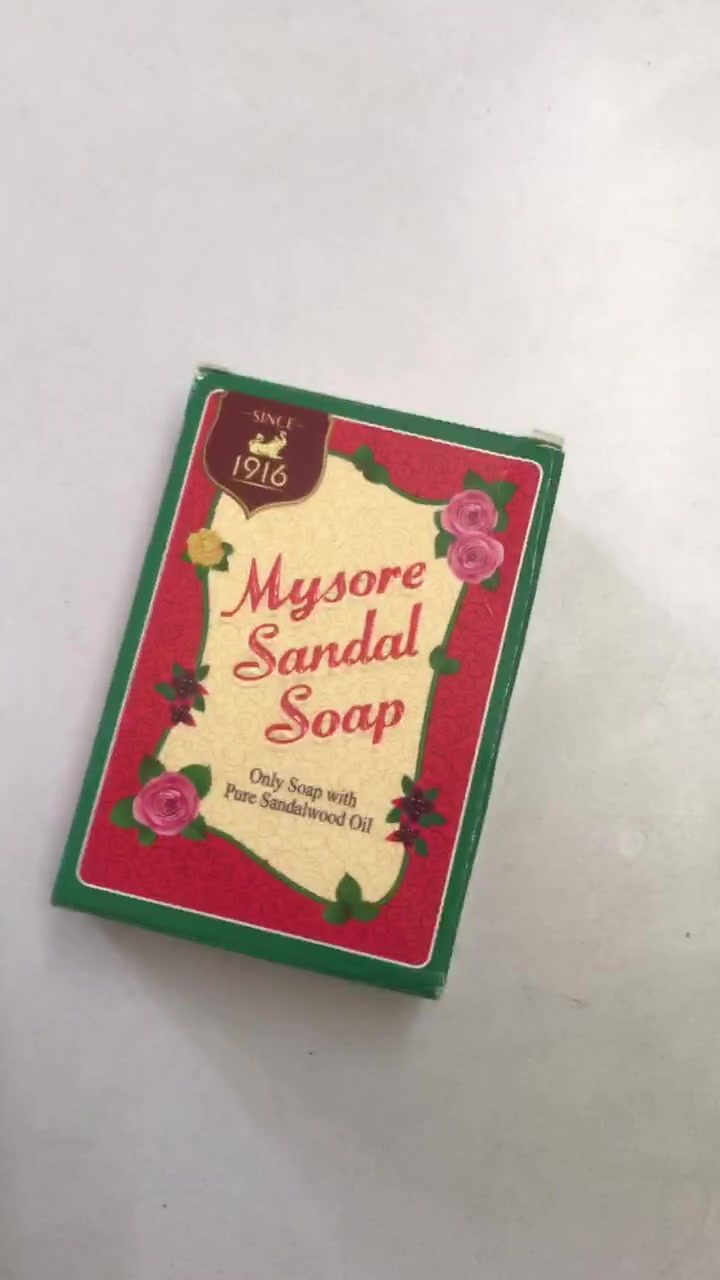mysore sandal soap: (31, 367, 563, 999)
